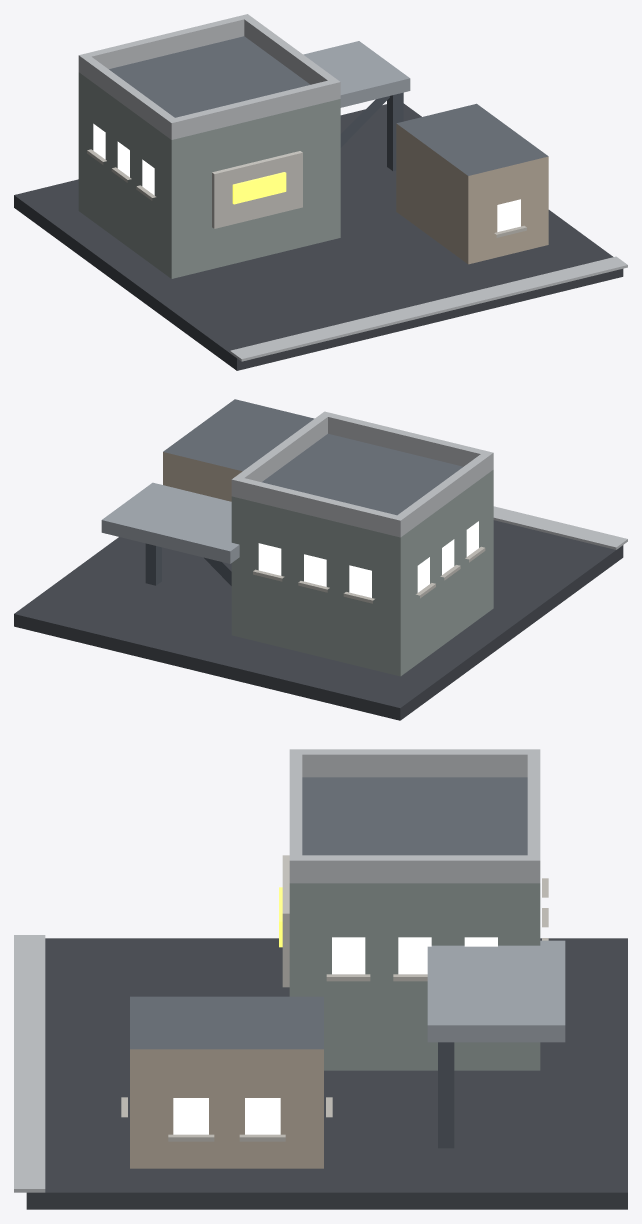
3 renders of one model, top to bottom at view 1: azimuth 30°, elevation 25°; view 2: azimuth 150°, elevation 25°; view 3: azimuth 270°, elevation 25°, orthographic. The views are drawn at different scales.
Visible parts, largest first — view 1: b39_v2_lod1; view 2: b39_v2_lod1; view 3: b39_v2_lod1.
Part boxes in pixels (x1,y1,x2,y2): b39_v2_lod1: [14, 14, 627, 370]; b39_v2_lod1: [14, 399, 627, 720]; b39_v2_lod1: [14, 749, 627, 1209].
Bounding box in the file's own units: 0.96 × 0.4 × 0.98.
